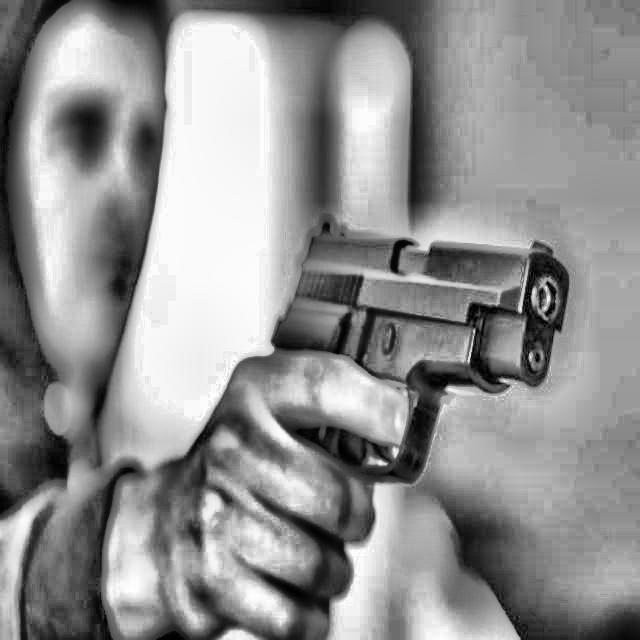pistol: (246, 208, 578, 501)
